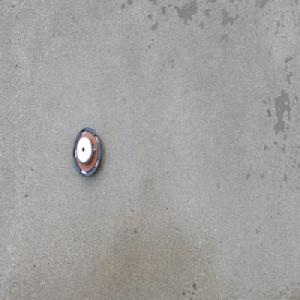FuelCap: (71, 126, 102, 180)
